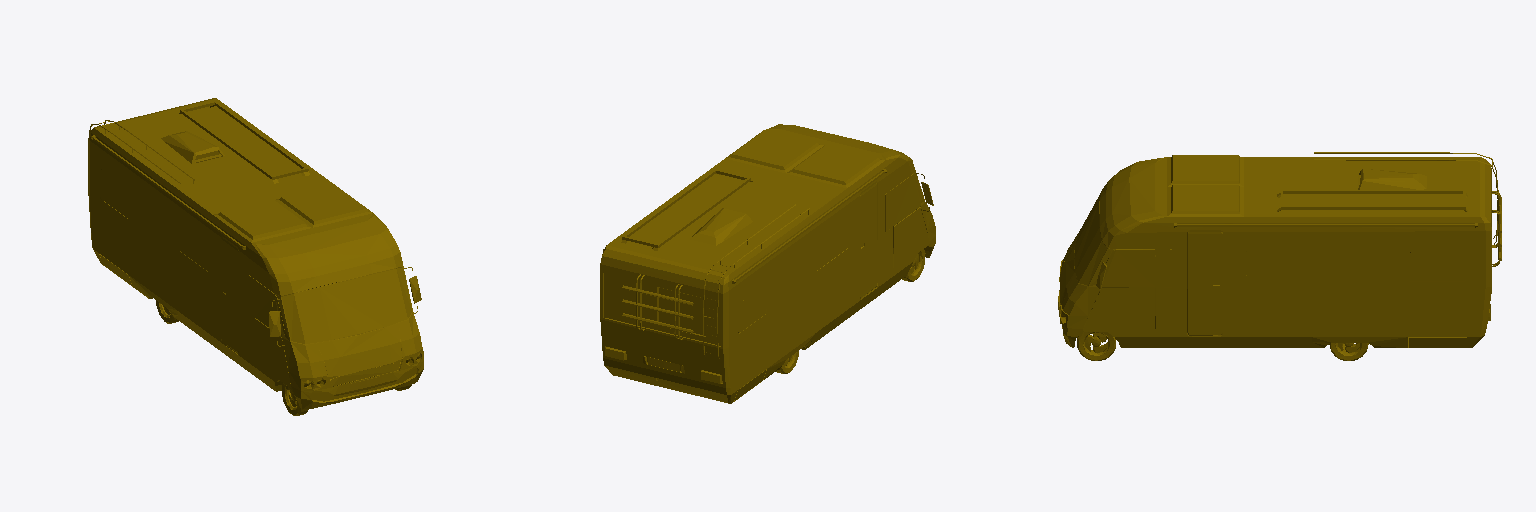
File: car.obj
3 views of the same model, side by side, from view 1: azimuth 30°, elevation 25°; view 2: azimuth 150°, elevation 25°; view 3: azimuth 270°, elevation 25° (orthographic).
Visible parts, largest first — view 1: hymer; view 2: hymer; view 3: hymer.
Boxes of the visible parts, x1,y1,x2,y2 form: hymer: [88, 98, 423, 415]; hymer: [600, 124, 935, 403]; hymer: [1058, 152, 1501, 360].
Bounding box in the file's own units: 87.32 × 85.73 × 221.